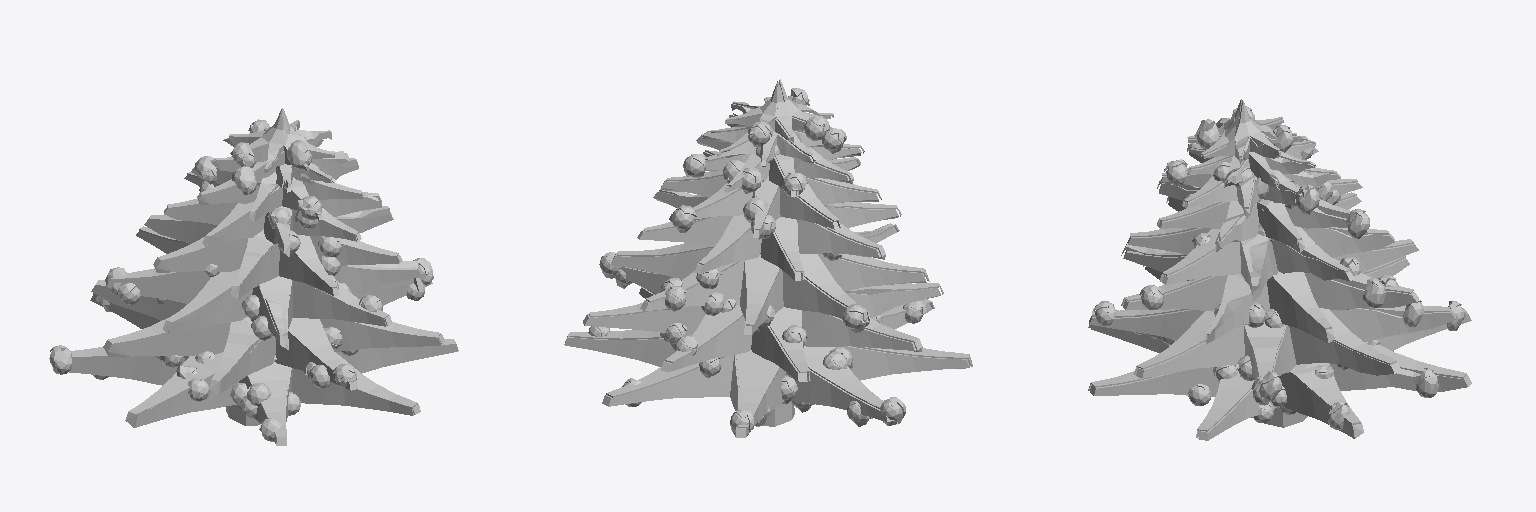
The model's file is Tree-Decorated.obj.
The picture shows the model from 3 angles: view 1: azimuth 30°, elevation 25°; view 2: azimuth 150°, elevation 25°; view 3: azimuth 270°, elevation 25°; orthographic projection.
Parts seen in each view (by area): view 1: Tree-Decorated_Icosphere; view 2: Tree-Decorated_Icosphere; view 3: Tree-Decorated_Icosphere.
Boxes of the visible parts, <box> form: Tree-Decorated_Icosphere: <box>49,108,458,445</box>; Tree-Decorated_Icosphere: <box>564,79,972,437</box>; Tree-Decorated_Icosphere: <box>1088,99,1471,440</box>.
Bounding box in the file's own units: 6.9 × 6.18 × 6.68.